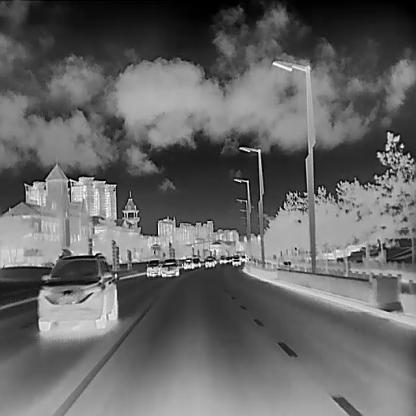car: (37, 247, 116, 330), (160, 257, 179, 277), (146, 258, 162, 276), (180, 257, 194, 268), (204, 255, 215, 267), (231, 253, 240, 264), (218, 252, 227, 262), (192, 257, 200, 266), (240, 255, 246, 262), (225, 255, 231, 261)
